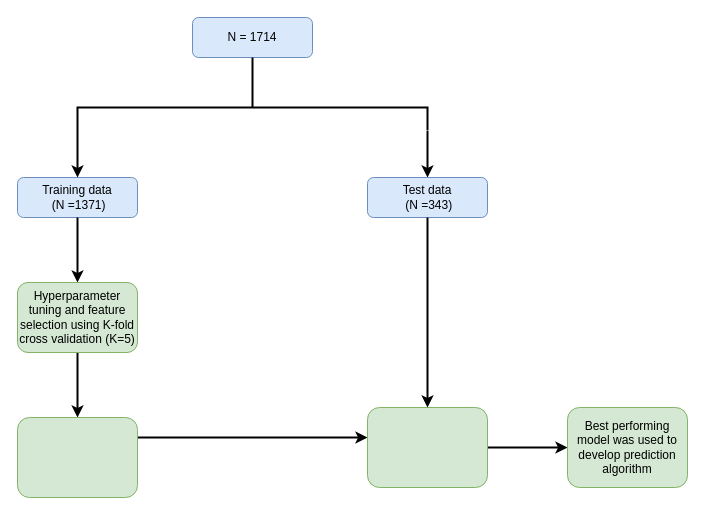
The diagram is 705 pixels wide and 515 high, and some of its shapes have lost their labels. The centre of each missing label's shape, as x and y in pixels:
Compare trained models' performance using test set: the point at 427,447
Select best parameters and features to build model: the point at 77,457
